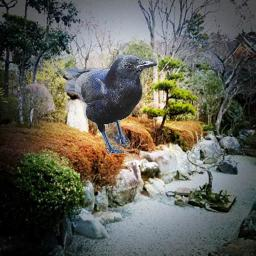Crow: (64, 54, 157, 154)
